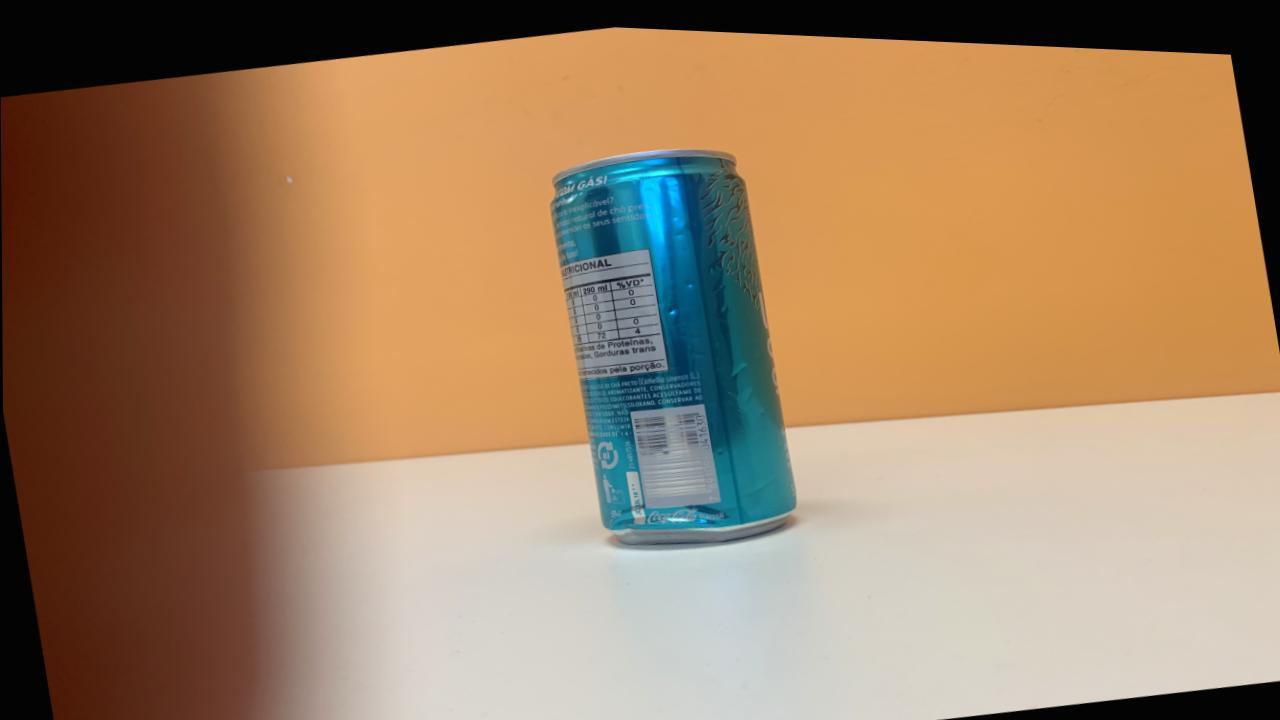Tea-Drinks: (551, 143, 796, 538)
